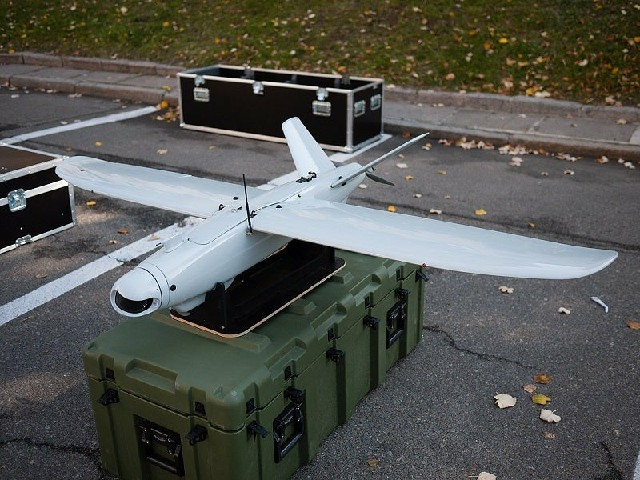maybay_khongnguoilai: (72, 120, 614, 299)
